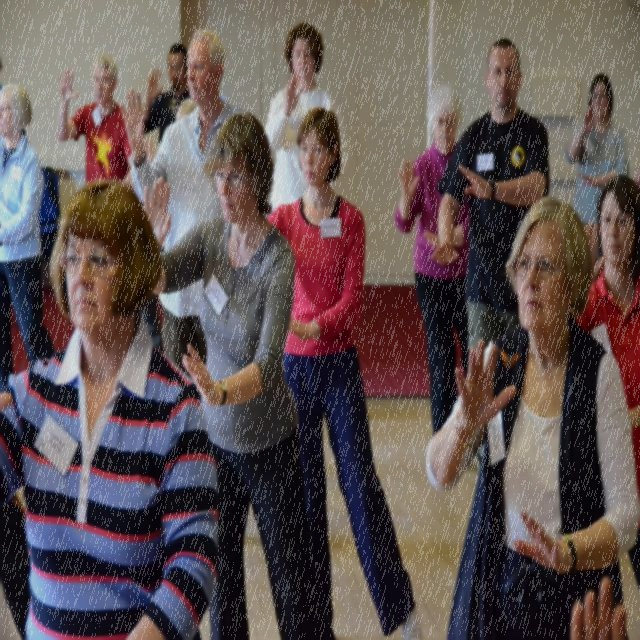pessoa: (0, 175, 227, 640), (140, 108, 338, 640), (420, 188, 640, 640), (262, 105, 423, 640), (118, 25, 243, 382), (428, 35, 550, 360), (394, 82, 469, 441), (576, 173, 640, 470), (0, 83, 56, 383), (264, 19, 350, 212), (56, 51, 134, 190), (563, 70, 631, 226), (141, 42, 192, 148), (568, 569, 629, 639), (174, 92, 198, 122), (630, 162, 638, 192), (0, 54, 5, 92)
